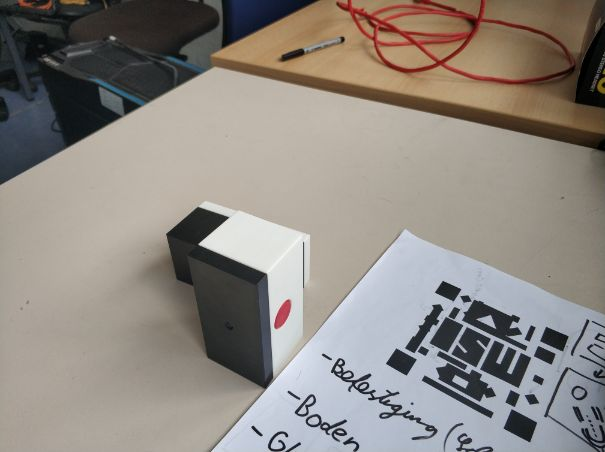black+white+red: (186, 209, 306, 386)
